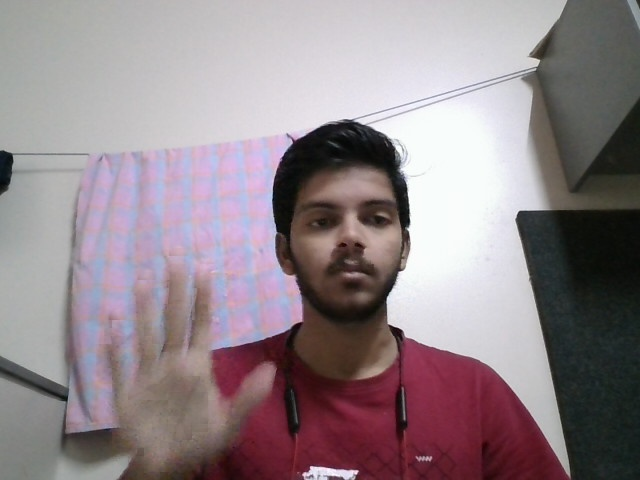Hello: (92, 247, 284, 474)
